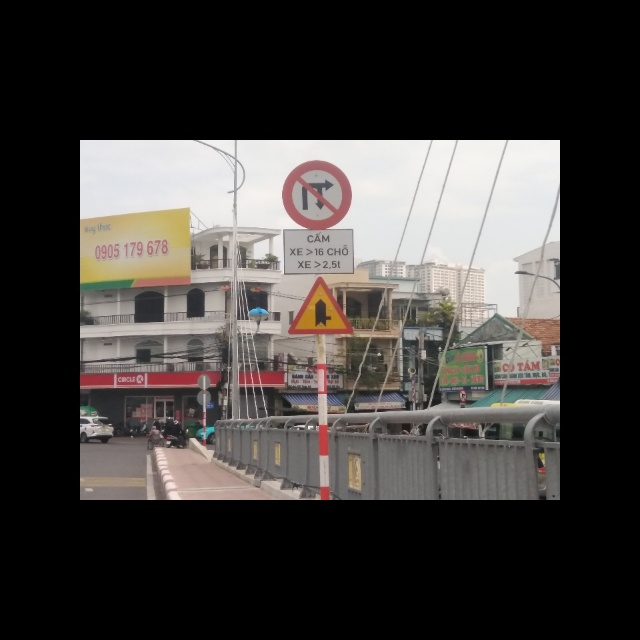Cấm quay đầu và rẽ phải: (281, 159, 351, 228)
Giao nhau với đường không ưu tiên: (287, 277, 356, 335)
